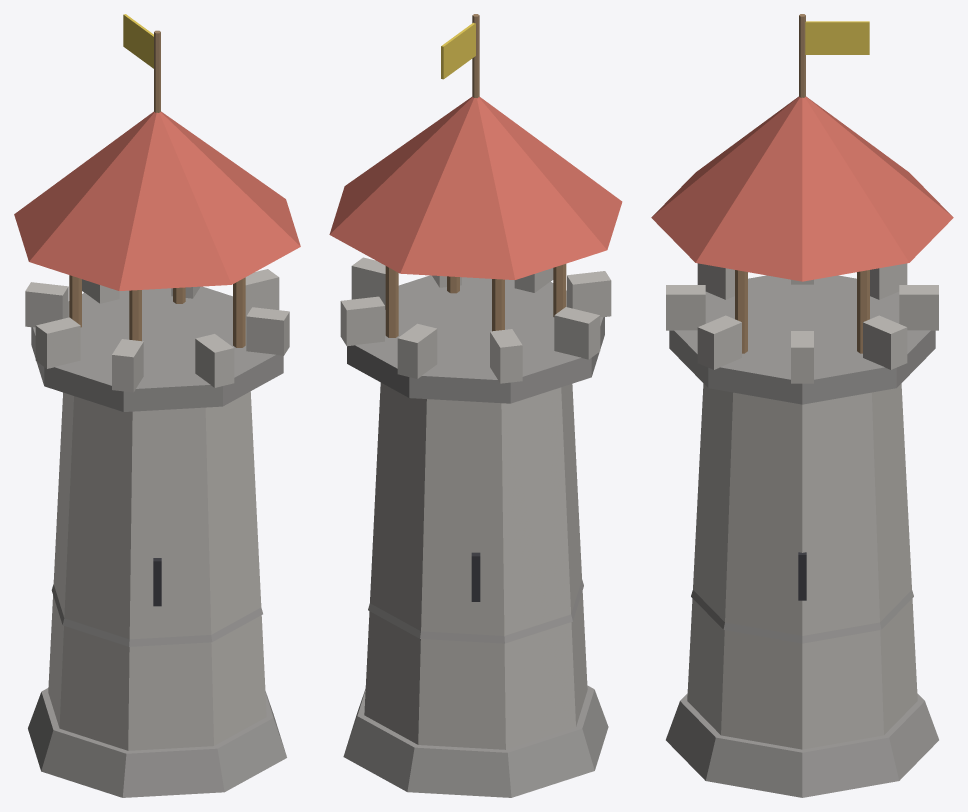
Rendered from ArcherTower.fbx.
3 renders of one model, left to right at view 1: azimuth 30°, elevation 25°; view 2: azimuth 150°, elevation 25°; view 3: azimuth 270°, elevation 25°, orthographic. The views are drawn at different scales.
Visible parts, largest first — view 1: ArcherTower; view 2: ArcherTower; view 3: ArcherTower.
Boxes of the visible parts, x1=… form: ArcherTower: x1=14, y1=14, x2=300, y2=797; ArcherTower: x1=329, y1=14, x2=622, y2=797; ArcherTower: x1=651, y1=14, x2=953, y2=797.
Bounding box in the file's own units: 4.2 × 11.1 × 4.2.
